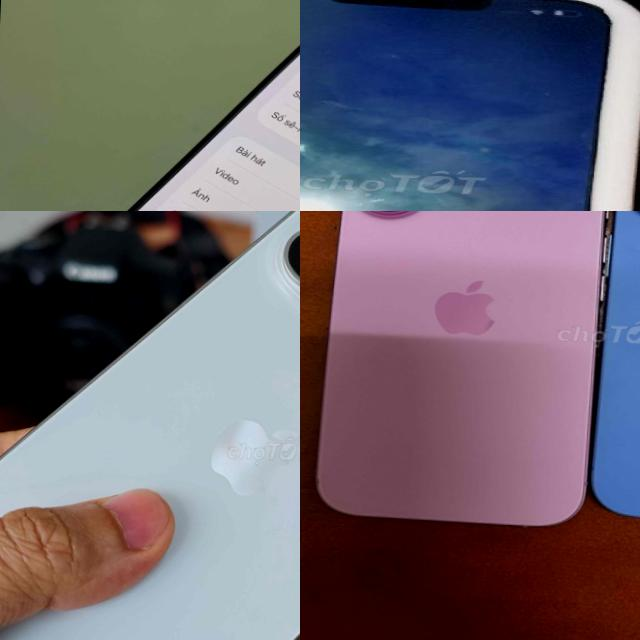gen_14: (300, 0, 640, 211)
gen_15: (0, 211, 300, 640)
gen_16: (307, 211, 606, 538), (122, 43, 300, 211)
